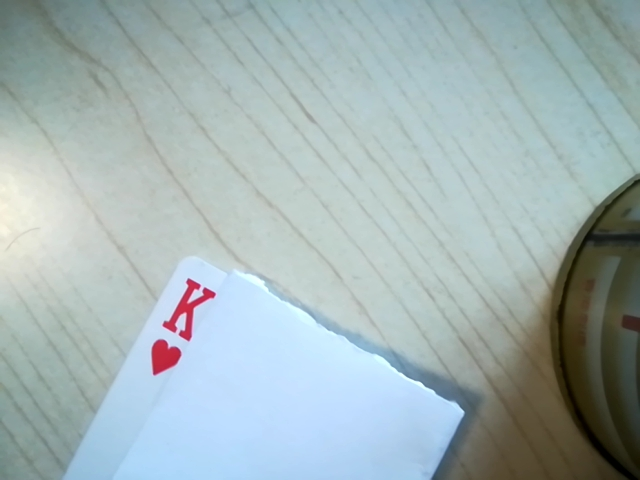hx k: (142, 271, 218, 381)
